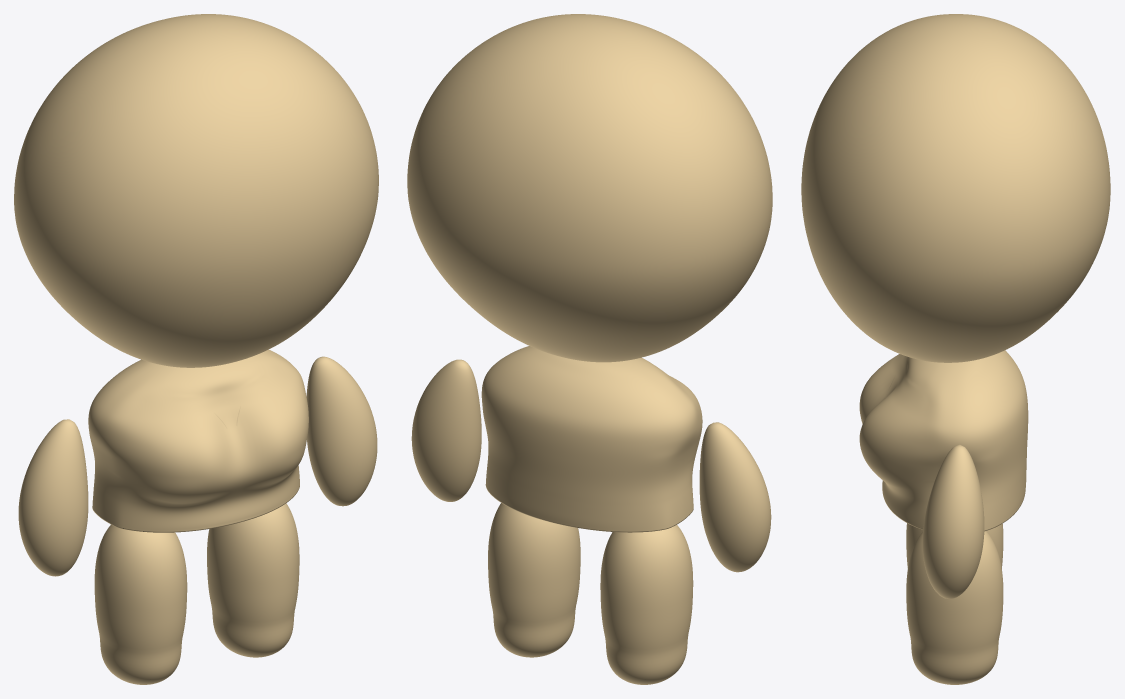
File: Feminine-pants-clothed-base263.glb
3 views of the same model, side by side, from view 1: azimuth 30°, elevation 25°; view 2: azimuth 150°, elevation 25°; view 3: azimuth 270°, elevation 25° (orthographic). The views are drawn at different scales.
Visible parts, largest first — view 1: Skin / soft oval head, Skin / rounded torso, Skin / pants fitted leg -1, Skin / pants fitted leg 1, Skin / swept arm -1, Skin / swept arm 1; view 2: Skin / soft oval head, Skin / rounded torso, Skin / pants fitted leg -1, Skin / pants fitted leg 1, Skin / swept arm -1, Skin / swept arm 1; view 3: Skin / soft oval head, Skin / rounded torso, Skin / pants fitted leg 1, Skin / swept arm 1, Skin / pants fitted leg -1.
Part boxes in pixels (x1=…): Skin / soft oval head: x1=14, y1=14, x2=378, y2=367; Skin / rounded torso: x1=88, y1=349, x2=308, y2=532; Skin / pants fitted leg -1: x1=94, y1=524, x2=187, y2=684; Skin / pants fitted leg 1: x1=207, y1=503, x2=299, y2=657; Skin / swept arm -1: x1=18, y1=419, x2=88, y2=576; Skin / swept arm 1: x1=306, y1=356, x2=377, y2=506; Skin / soft oval head: x1=407, y1=14, x2=772, y2=362; Skin / rounded torso: x1=481, y1=346, x2=702, y2=532; Skin / pants fitted leg -1: x1=600, y1=525, x2=693, y2=684; Skin / pants fitted leg 1: x1=488, y1=503, x2=580, y2=657; Skin / swept arm -1: x1=699, y1=422, x2=771, y2=572; Skin / swept arm 1: x1=411, y1=359, x2=481, y2=501; Skin / soft oval head: x1=801, y1=14, x2=1110, y2=362; Skin / rounded torso: x1=859, y1=350, x2=1028, y2=531; Skin / pants fitted leg 1: x1=906, y1=531, x2=1003, y2=684; Skin / swept arm 1: x1=922, y1=444, x2=984, y2=598; Skin / pants fitted leg -1: x1=906, y1=523, x2=1003, y2=568.
Size of the model in its own units: 1.04 by 1.8 by 0.81.
